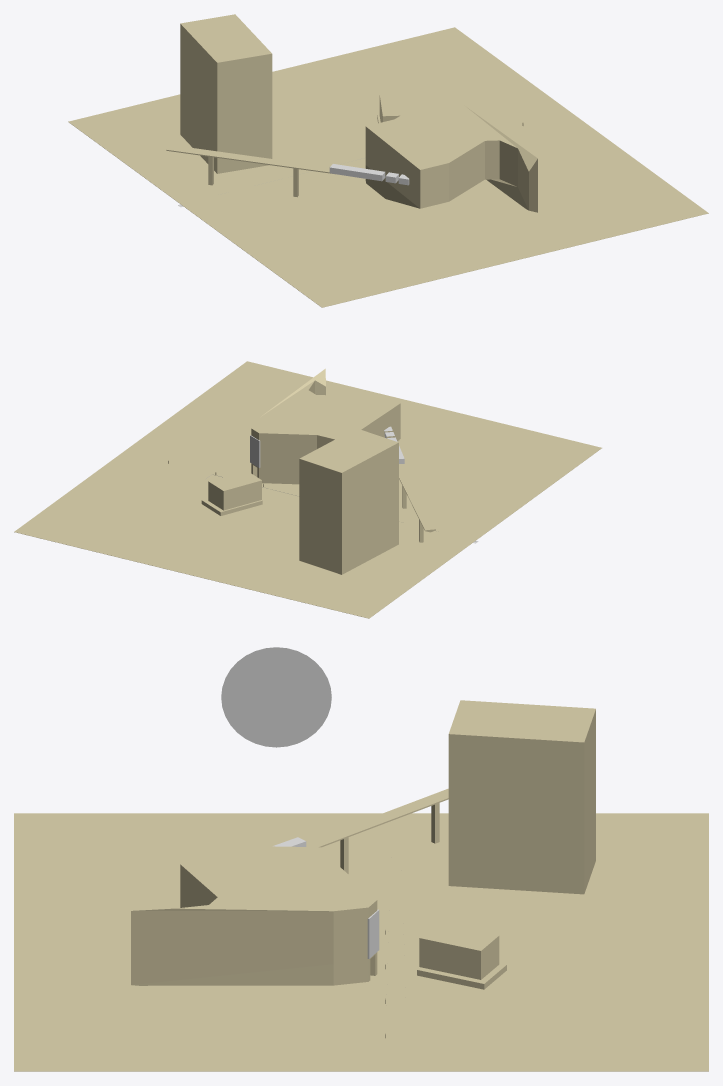
3 renders of one model, top to bottom at view 1: azimuth 30°, elevation 25°; view 2: azimuth 150°, elevation 25°; view 3: azimuth 270°, elevation 25°, orthographic. The views are drawn at different scales.
Parts seen in each view (by area): view 1: ground, 立方體; view 2: ground; view 3: ground, Circle.
Boxes of the visible parts, x1=… form: ground: x1=68, y1=14, x2=708, y2=307; 立方體: x1=329, y1=164, x2=409, y2=185; ground: x1=14, y1=361, x2=601, y2=618; ground: x1=14, y1=700, x2=708, y2=1071; Circle: x1=221, y1=647, x2=379, y2=958.
Size of the model in its own units: 143 by 37.02 by 109.
